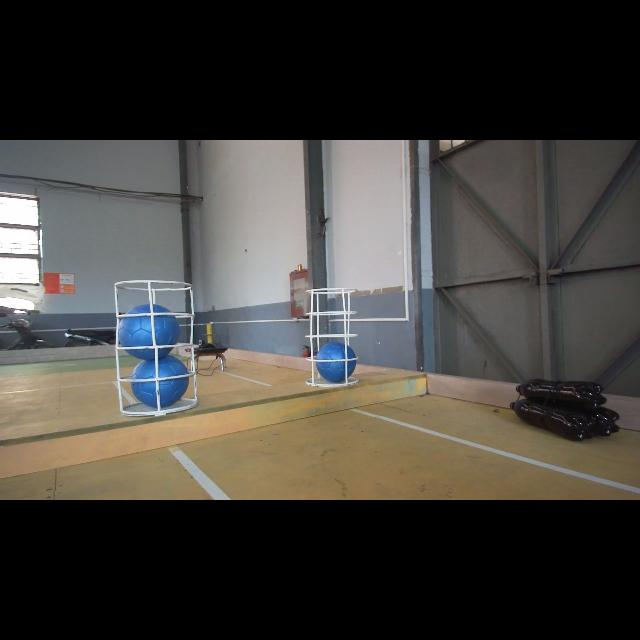B: (118, 302, 180, 360), (131, 356, 191, 408), (317, 342, 357, 382)
